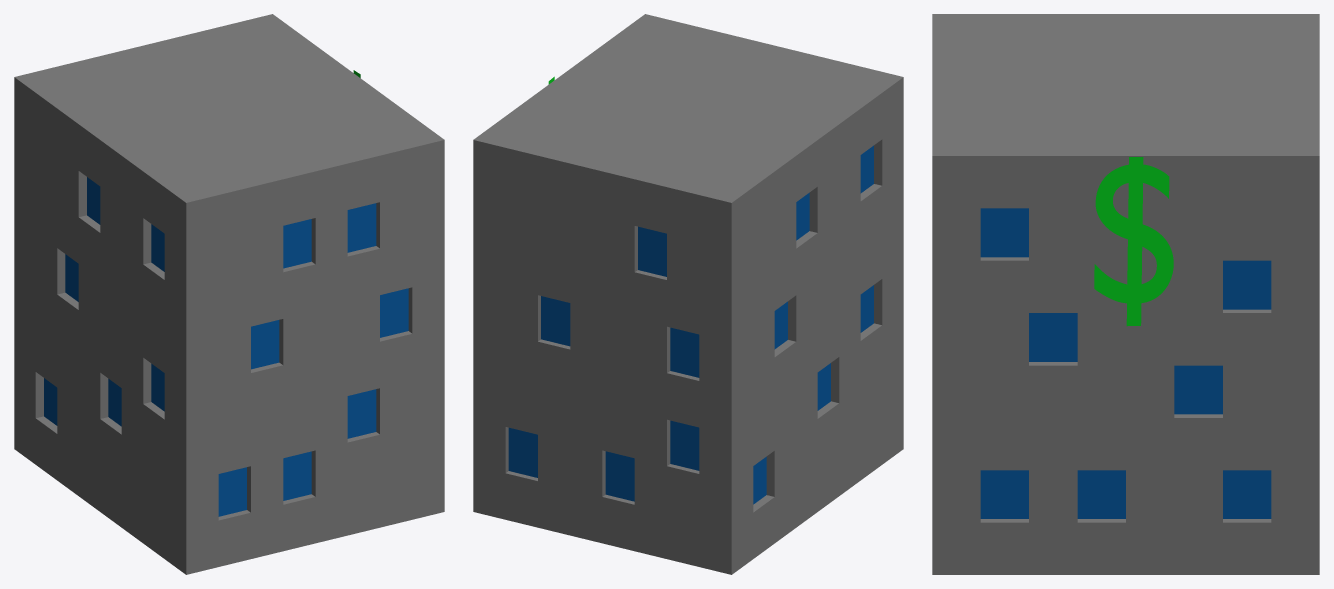
The model's file is starting house.fbx.
3 renders of one model, left to right at view 1: azimuth 30°, elevation 25°; view 2: azimuth 150°, elevation 25°; view 3: azimuth 270°, elevation 25°, orthographic. The views are drawn at different scales.
Visible parts, largest first — view 1: Cube; view 2: Cube; view 3: Cube, test text.
Boxes of the visible parts, box(x1,y1,x2,y2) form: Cube: box(14, 14, 444, 574); Cube: box(473, 14, 903, 574); Cube: box(932, 14, 1319, 574); test text: box(1094, 157, 1173, 326).
Bounding box in the file's own units: 10414 × 14117 × 11809.
